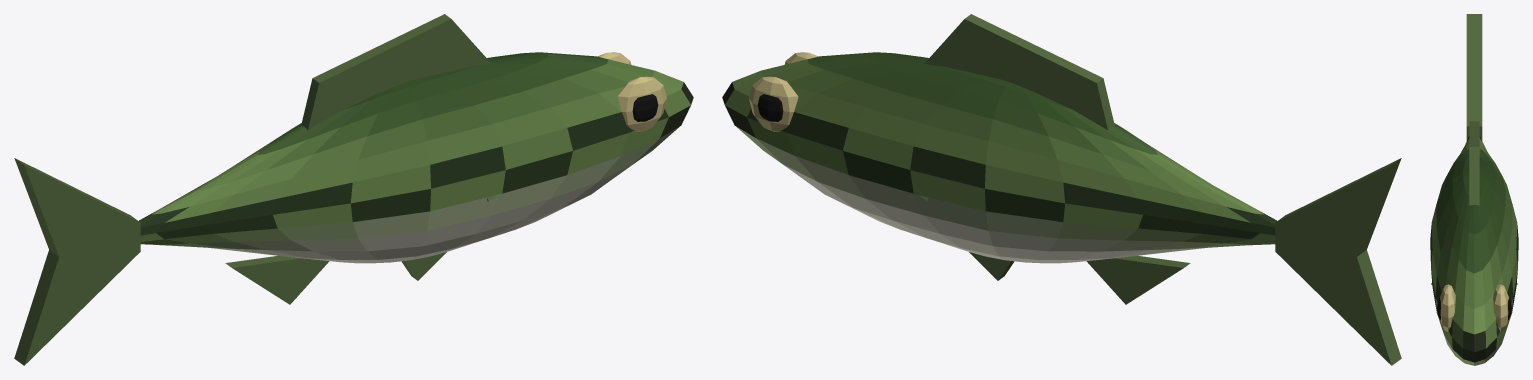
Rendered from LargemouthBass.glb.
The picture shows the model from 3 angles, left to right: view 1: azimuth 30°, elevation 25°; view 2: azimuth 150°, elevation 25°; view 3: azimuth 270°, elevation 25°; orthographic projection. The views are drawn at different scales.
Parts seen in each view (by area): view 1: LargemouthBass; view 2: LargemouthBass; view 3: LargemouthBass.
Part boxes in pixels (bbox=[...]): LargemouthBass: bbox=[14, 14, 693, 365]; LargemouthBass: bbox=[722, 14, 1401, 365]; LargemouthBass: bbox=[1430, 14, 1518, 365].
Size of the model in its own units: 4.11 by 1.48 by 0.5928.
